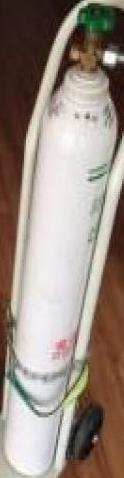cylinder: (0, 1, 124, 478)
